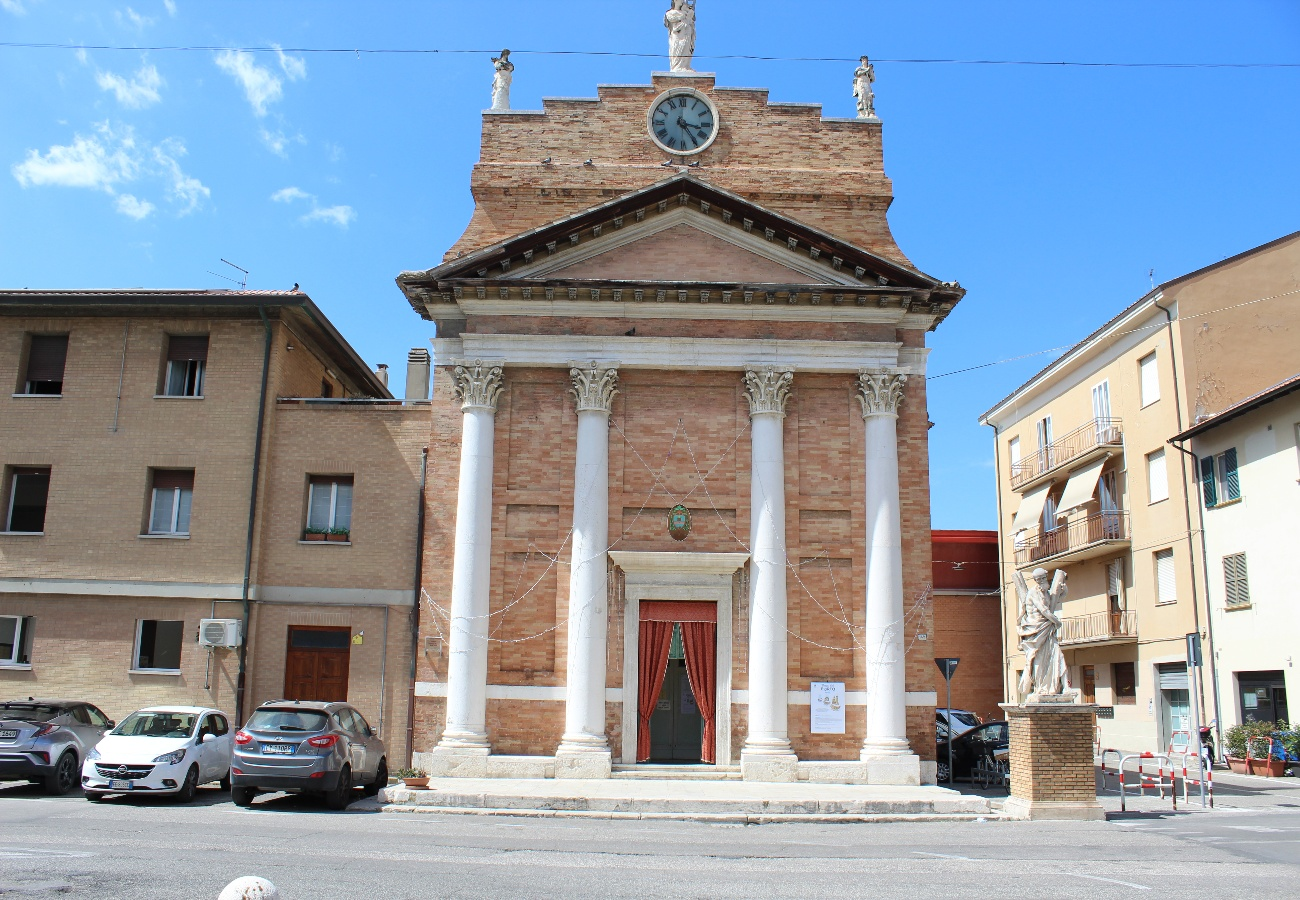Parrocchia Santa Maria: (396, 40, 972, 821)
